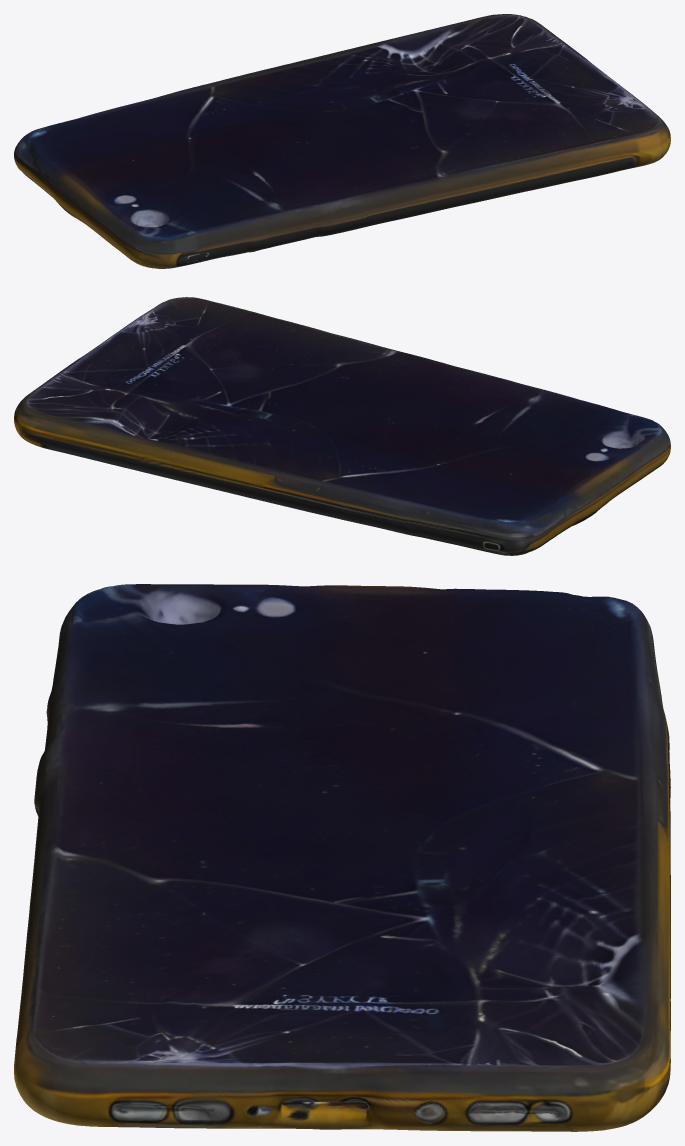
File: Datacluster Cracked Screen (221).glb
The picture shows the model from 3 angles, top to bottom: view 1: azimuth 30°, elevation 25°; view 2: azimuth 150°, elevation 25°; view 3: azimuth 270°, elevation 25°; orthographic projection. The views are drawn at different scales.
Visible parts, largest first — view 1: tripo_node_9e30f013-6fd5-4757-989c-6c058891ad2e; view 2: tripo_node_9e30f013-6fd5-4757-989c-6c058891ad2e; view 3: tripo_node_9e30f013-6fd5-4757-989c-6c058891ad2e.
Part boxes in pixels (x1,y1,x2,y2): tripo_node_9e30f013-6fd5-4757-989c-6c058891ad2e: [14, 14, 670, 268]; tripo_node_9e30f013-6fd5-4757-989c-6c058891ad2e: [14, 297, 670, 555]; tripo_node_9e30f013-6fd5-4757-989c-6c058891ad2e: [14, 584, 670, 1131].
Bounding box in the file's own units: 1 × 0.0696 × 0.5524.
1 material, 1 textured.
